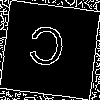C: (25, 25, 67, 76)
